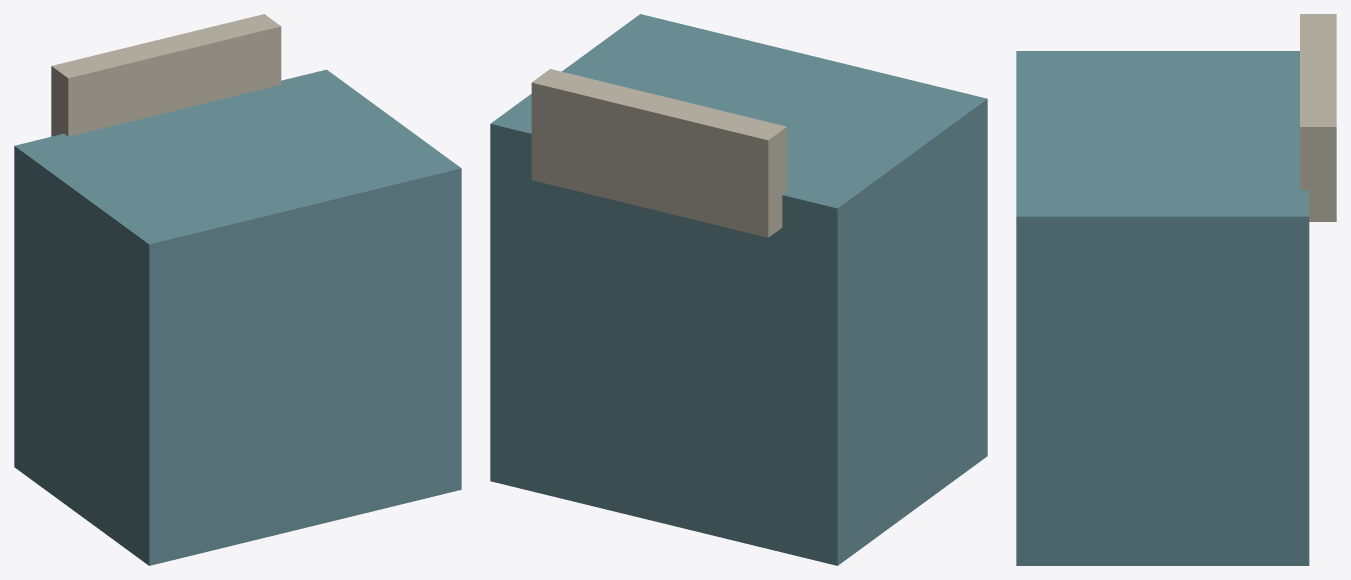
The model's file is iz2_item_suture_kit.glb.
The picture shows the model from 3 angles, left to right: view 1: azimuth 30°, elevation 25°; view 2: azimuth 150°, elevation 25°; view 3: azimuth 270°, elevation 25°; orthographic projection. The views are drawn at different scales.
Parts seen in each view (by area): view 1: body; view 2: body; view 3: body.
Part boxes in pixels (x1,y1,x2,y2): body: (14, 14, 461, 565); body: (490, 14, 987, 565); body: (1016, 14, 1336, 565).
Bounding box in the file's own units: 0.2192 × 0.2548 × 0.1794.
